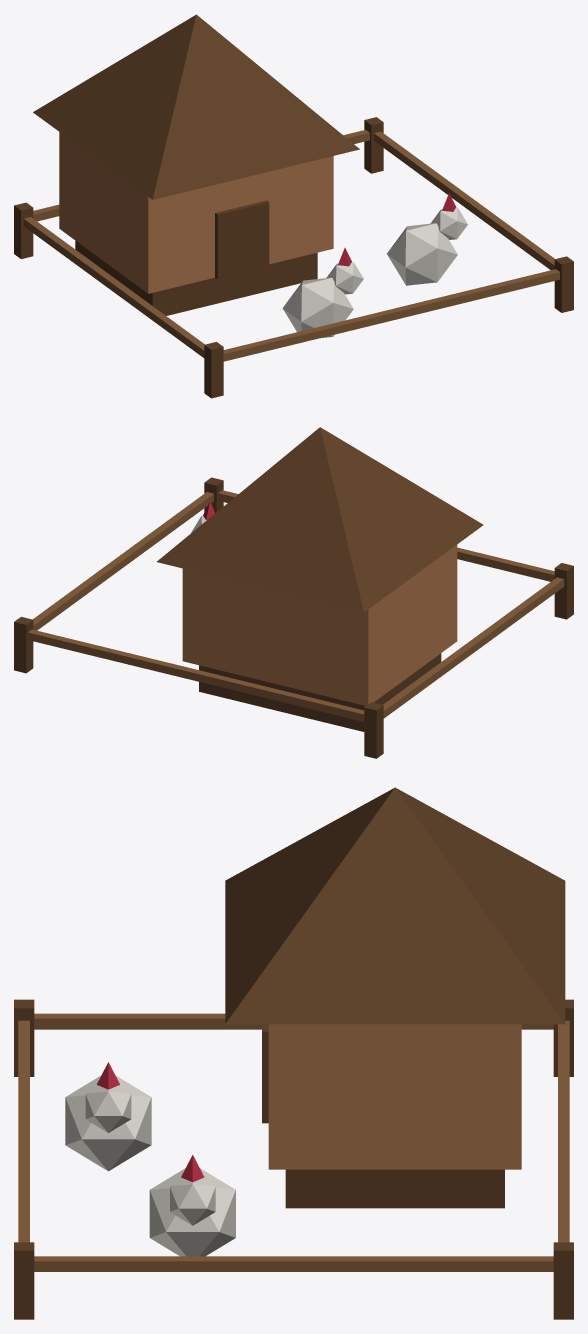
File: chicken-coop.glb
The picture shows the model from 3 angles, top to bottom: view 1: azimuth 30°, elevation 25°; view 2: azimuth 150°, elevation 25°; view 3: azimuth 270°, elevation 25°; orthographic projection. The views are drawn at different scales.
Parts seen in each view (by area): view 1: chicken_coop; view 2: chicken_coop; view 3: chicken_coop.
Part boxes in pixels (<box>): chicken_coop: <box>14,14,573,398</box>; chicken_coop: <box>14,427,573,758</box>; chicken_coop: <box>14,787,573,1319</box>.
Bounding box in the file's own units: 0.352 × 0.238 × 0.332.
